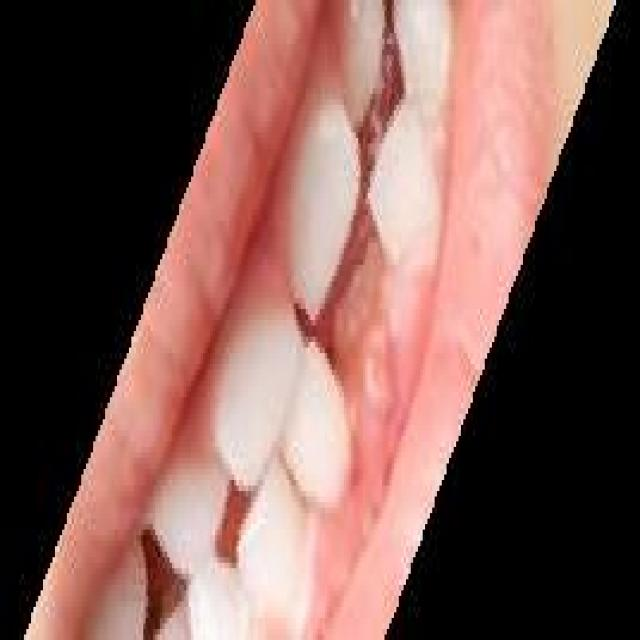caries: (321, 225, 403, 416)
